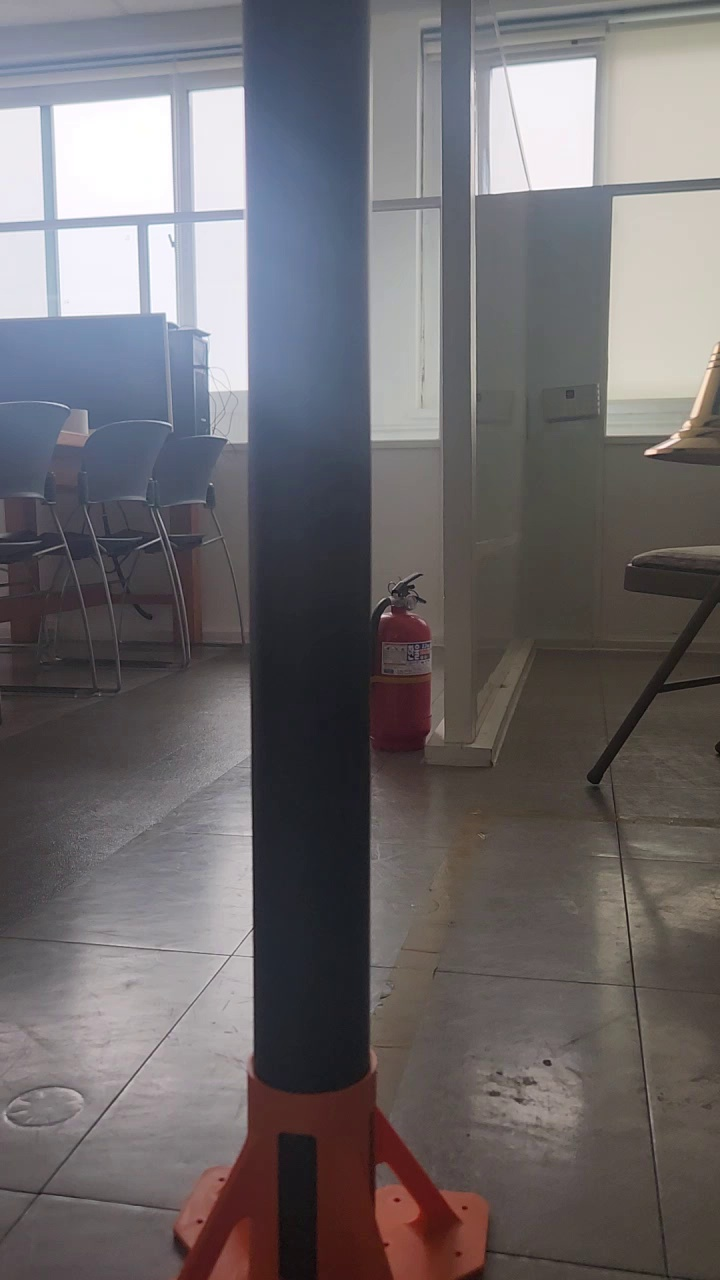pole: (240, 2, 379, 1170), (236, 0, 377, 1066)
